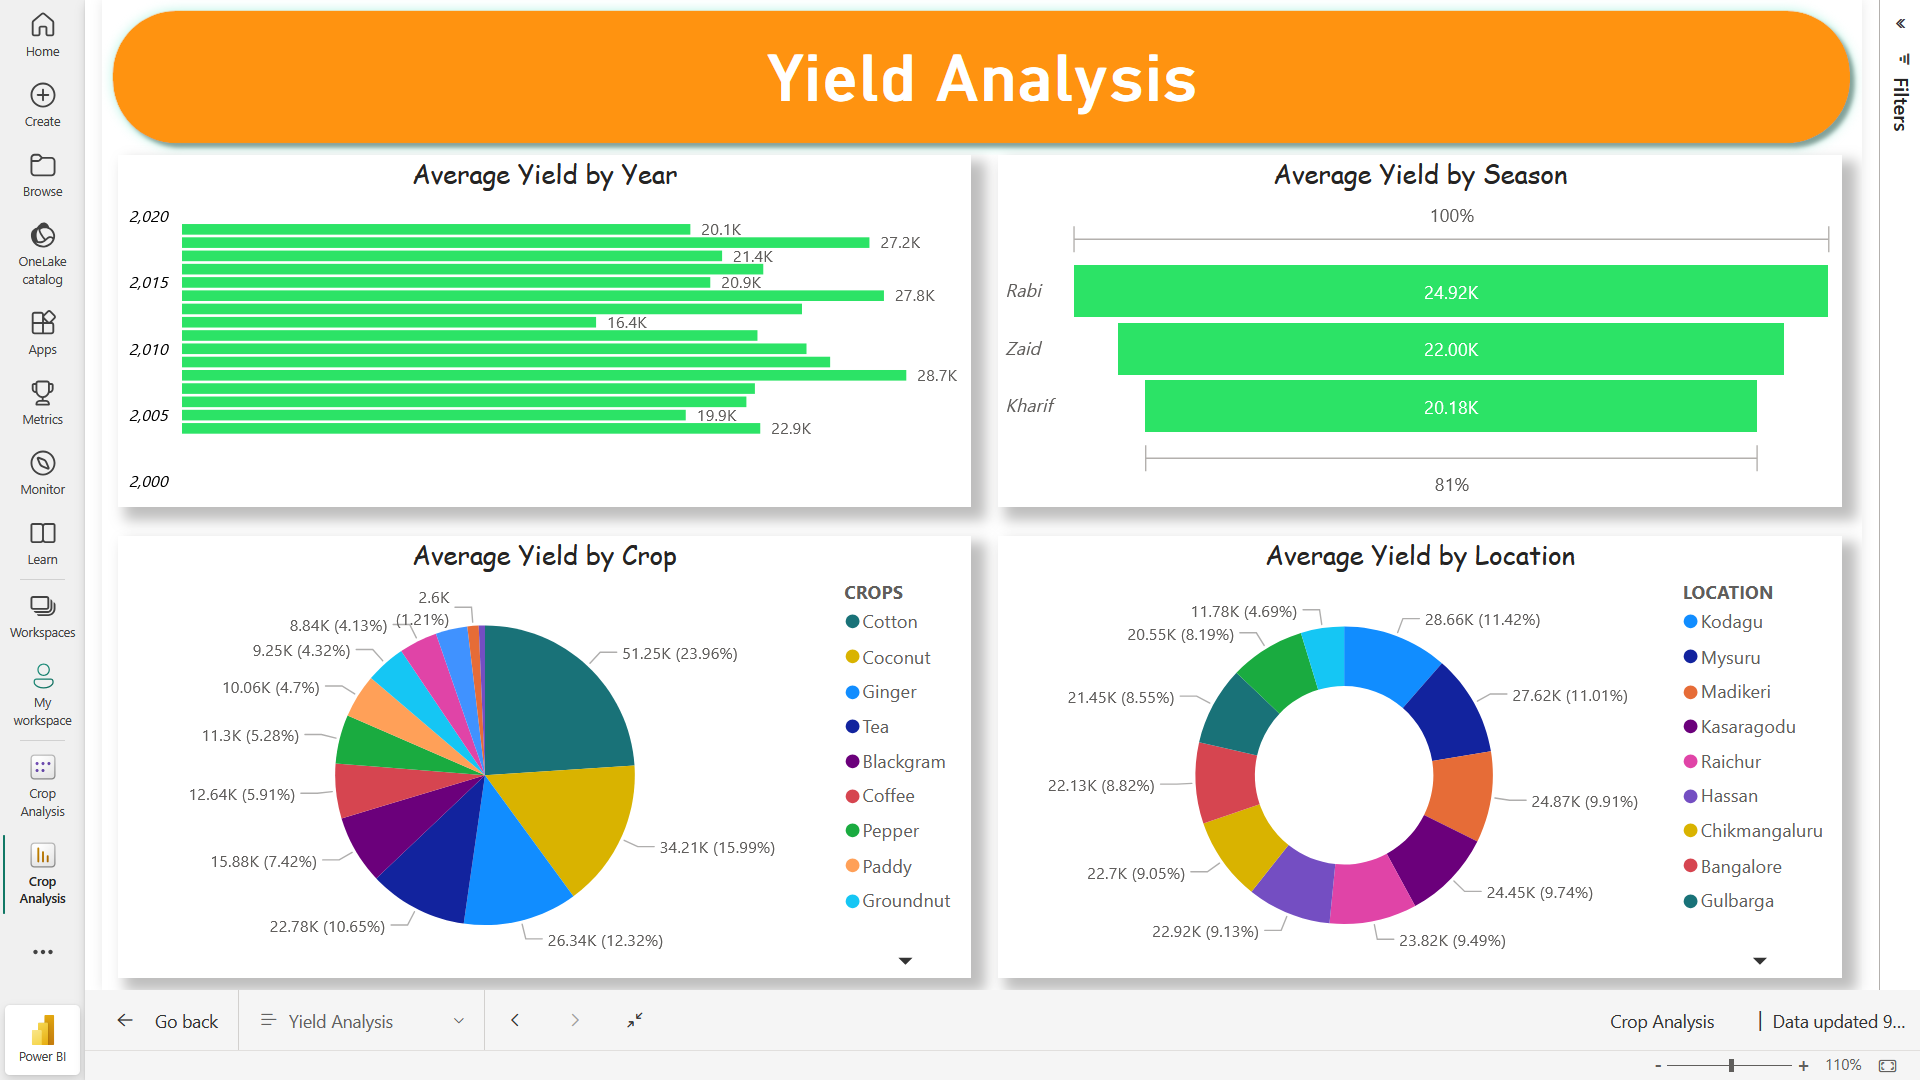

Layout of this report page (visuals, bound fields, positions):
{"tool":"powerbi","page":{"name":"Yield Analysis","canvas":[1280,720],"ordinal":3},"visuals":[{"type":"shape","box":[0,0,1279.8,112.7],"z":0},{"type":"barChart","title":"Average Yield by Year","fields":{"Category":["AGRICULTURE.YEAR"],"Y":["Avg(AGRICULTURE.YEILDS)"]},"box":[11.4,112.7,620.2,255.7],"z":1000},{"type":"funnel","title":"Average Yield by Season","fields":{"Category":["AGRICULTURE.SEASON"],"Y":["Avg(AGRICULTURE.YEILDS)"]},"box":[651.9,112.7,613.9,255.7],"z":2000},{"type":"pieChart","title":"Average Yield by Crop","fields":{"Category":["AGRICULTURE.CROPS"],"Y":["Avg(AGRICULTURE.YEILDS)"]},"box":[11.4,389.9,620.2,321.5],"z":3000},{"type":"donutChart","title":"Average Yield by Location","fields":{"Category":["AGRICULTURE.LOCATION"],"Y":["Avg(AGRICULTURE.YEILDS)"]},"box":[651.9,389.9,613.9,321.5],"z":4000}]}

Visuals, with their boxes on the page's 1280x720 design canvas (x1, y1, x2, y2). These are canvas units, not pixel positions in the 1920x1080 screenshot, which may show the page scaled, cropped or inside an application window:
shape: Rect(0, 0, 1280, 113)
"Average Yield by Year" barChart: Rect(11, 113, 632, 368)
"Average Yield by Season" funnel: Rect(652, 113, 1266, 368)
"Average Yield by Crop" pieChart: Rect(11, 390, 632, 711)
"Average Yield by Location" donutChart: Rect(652, 390, 1266, 711)
